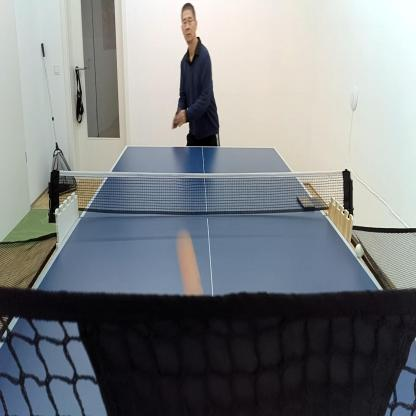Ball: (174, 226, 206, 296), (355, 241, 365, 261)
